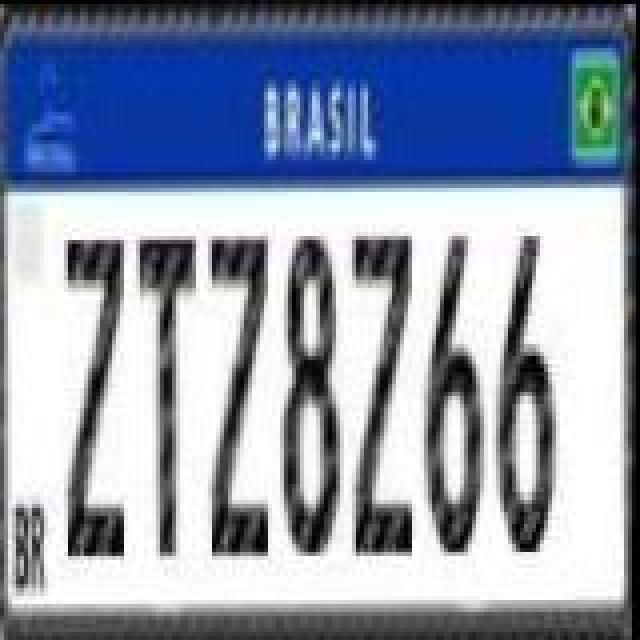6: (418, 220, 490, 556), (490, 224, 562, 560)
8: (278, 240, 350, 564)
T: (134, 234, 206, 558)
Z: (62, 234, 134, 558), (206, 234, 278, 558), (352, 224, 420, 560)
